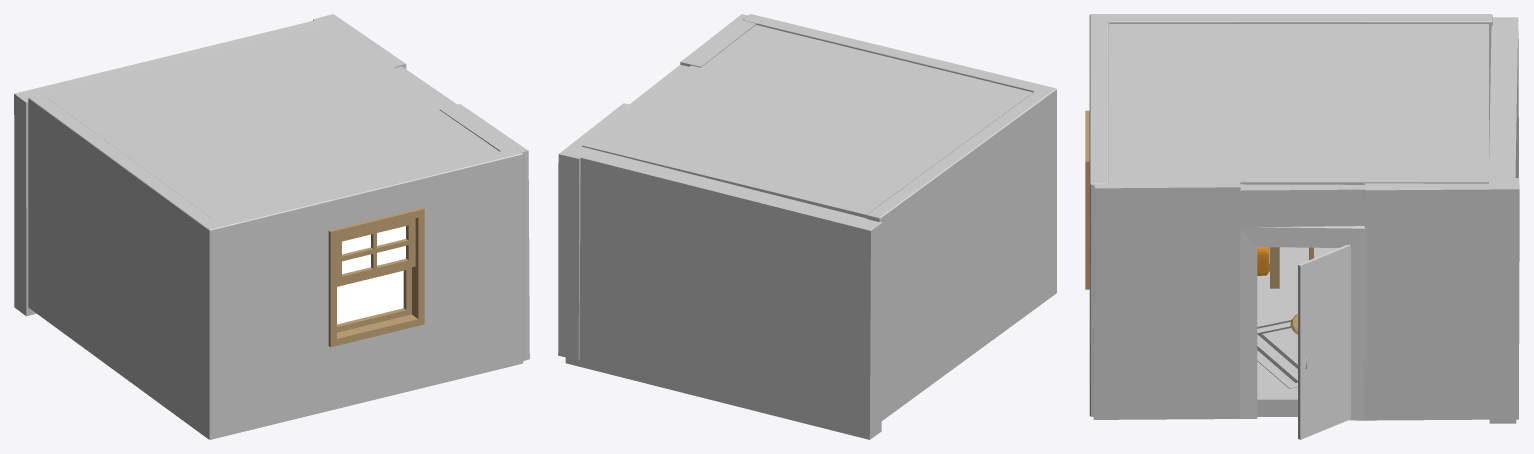
The model's file is dormitorio.glb.
3 views of the same model, side by side, from view 1: azimuth 30°, elevation 25°; view 2: azimuth 150°, elevation 25°; view 3: azimuth 270°, elevation 25° (orthographic). The views are drawn at different scales.
Visible parts, largest first — view 1: Wall, Floor.005, Window, Floor.001, Floor.002, Floor.003; view 2: Floor.001, Floor.005, Wall, Floor.003, Floor.002; view 3: Floor.005, Floor.003, Floor.002, door_heavy_metal, Wall, door_frame_metal, Floor.004, Floor.001, Floor, Carpet, Window, Bed frame.
Boxes of the visible parts, <box> form: Wall: <box>28,94,523,439</box>; Floor.005: <box>46,25,499,220</box>; Window: <box>328,207,424,347</box>; Floor.001: <box>14,17,334,316</box>; Floor.002: <box>439,104,529,360</box>; Floor.003: <box>313,14,406,68</box>; Floor.001: <box>565,149,882,439</box>; Floor.005: <box>582,25,1032,218</box>; Wall: <box>743,14,1056,420</box>; Floor.003: <box>558,103,635,360</box>; Floor.002: <box>680,14,756,67</box>; Floor.005: <box>1108,24,1488,184</box>; Floor.003: <box>1364,178,1519,420</box>; Floor.002: <box>1093,176,1240,419</box>; door_heavy_metal: <box>1298,245,1350,439</box>; Wall: <box>1089,14,1492,416</box>; door_frame_metal: <box>1239,226,1366,420</box>; Floor.004: <box>1240,184,1364,228</box>; Floor.001: <box>1489,17,1518,423</box>; Floor: <box>1257,247,1338,416</box>; Carpet: <box>1257,315,1297,388</box>; Window: <box>1085,110,1089,289</box>; Bed frame: <box>1268,247,1279,288</box>.
Bounding box in the file's own units: 9.64 × 5.58 × 9.05.
